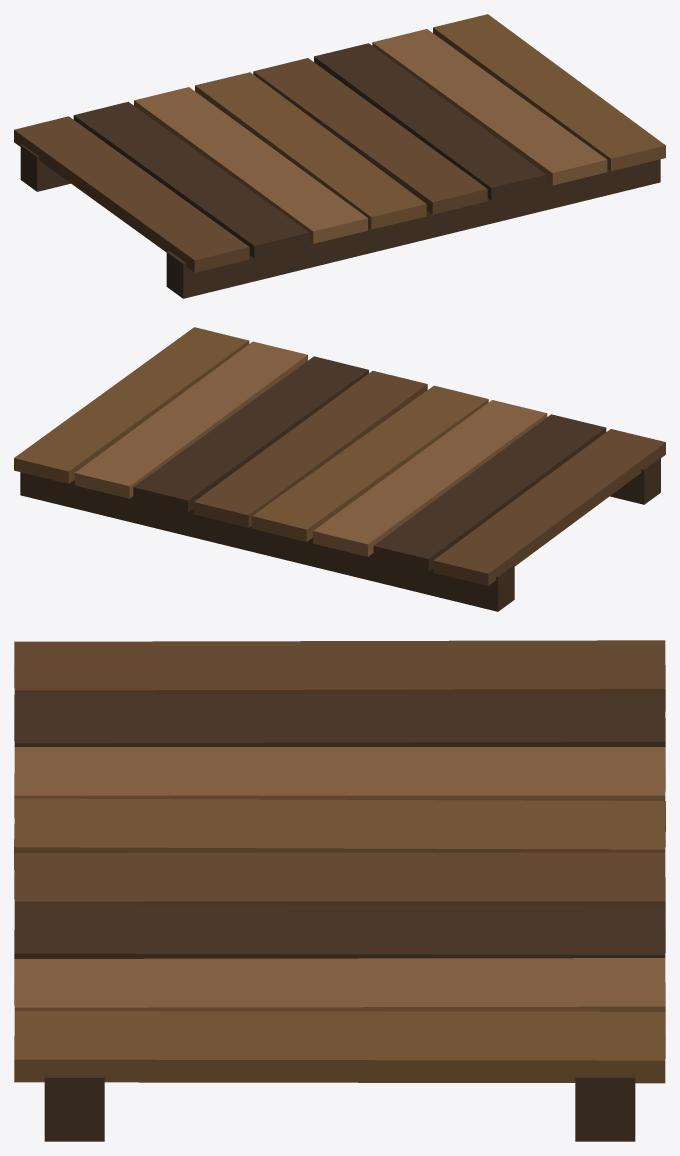
The model's file is mdvl_nature_walkway_01.glb.
3 views of the same model, one above another, from view 1: azimuth 30°, elevation 25°; view 2: azimuth 150°, elevation 25°; view 3: azimuth 270°, elevation 25° (orthographic). The views are drawn at different scales.
Parts seen in each view (by area): view 1: mdvl_nature_walkway_01; view 2: mdvl_nature_walkway_01; view 3: mdvl_nature_walkway_01.
Part boxes in pixels (bbox=[...]): mdvl_nature_walkway_01: bbox=[14, 14, 665, 298]; mdvl_nature_walkway_01: bbox=[14, 327, 665, 611]; mdvl_nature_walkway_01: bbox=[14, 640, 665, 1141].
Bounding box in the file's own units: 2 × 0.175 × 1.3.
Materials: 1 (1 with a texture image).
